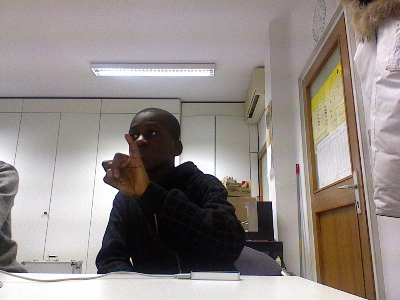小指: (100, 132, 150, 198)
